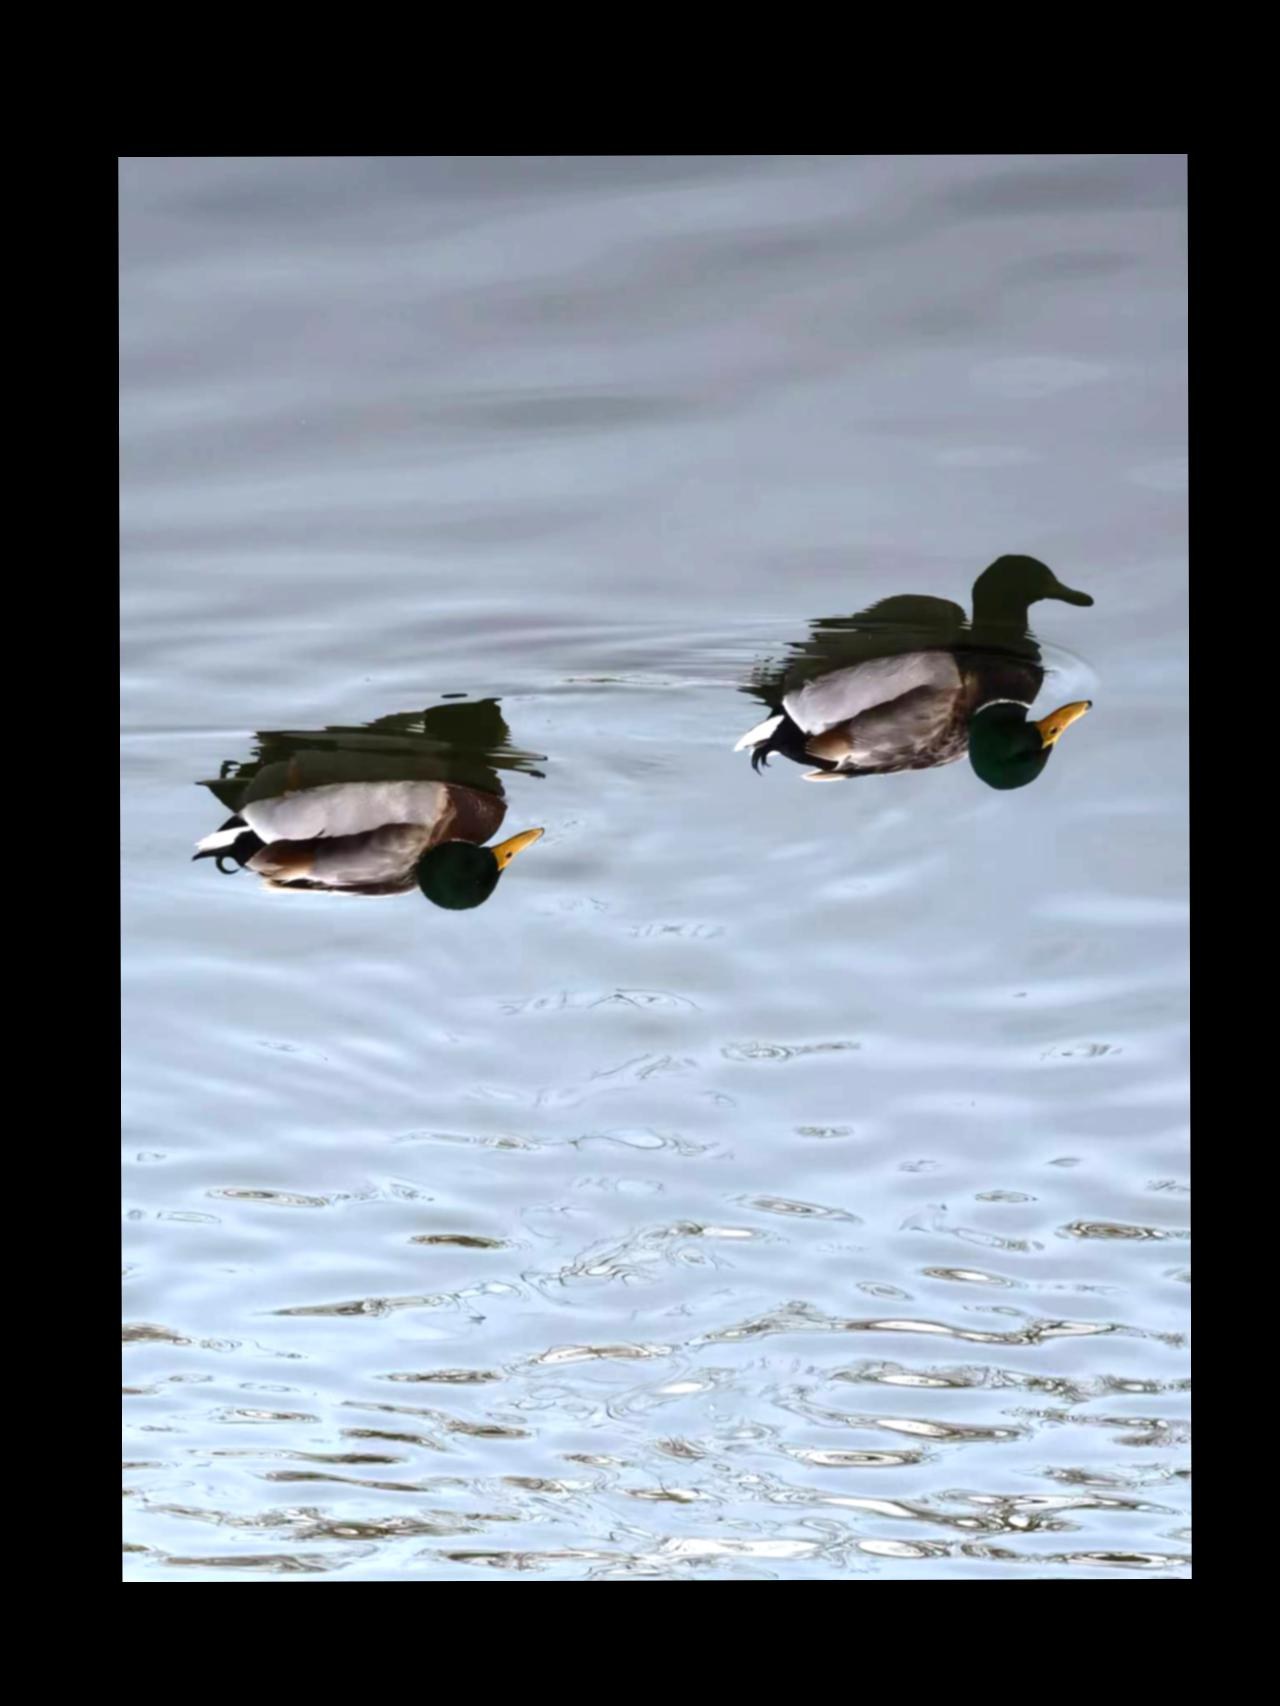duck: (187, 725, 555, 937), (718, 636, 1092, 819)
